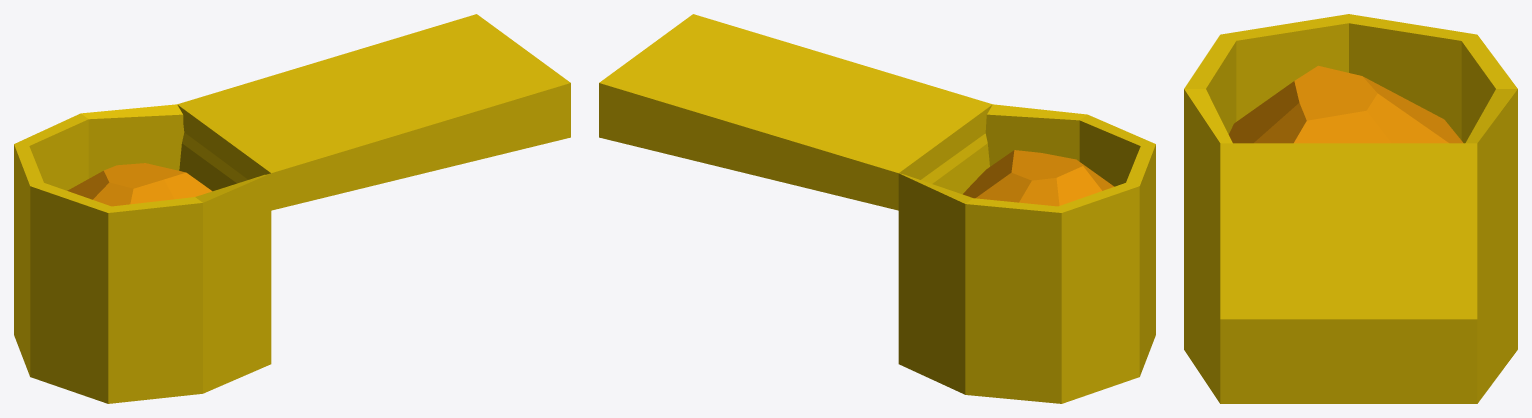
Rendered from PowderScoop.fbx.
3 views of the same model, side by side, from view 1: azimuth 30°, elevation 25°; view 2: azimuth 150°, elevation 25°; view 3: azimuth 270°, elevation 25° (orthographic). The views are drawn at different scales.
Parts seen in each view (by area): view 1: Cube, POWDER; view 2: Cube, POWDER; view 3: Cube, POWDER.
Boxes of the visible parts, x1=… form: Cube: x1=14, y1=14, x2=570, y2=403; POWDER: x1=67, y1=163, x2=212, y2=206; Cube: x1=599, y1=14, x2=1155, y2=403; POWDER: x1=963, y1=150, x2=1114, y2=206; Cube: x1=1184, y1=14, x2=1517, y2=403; POWDER: x1=1228, y1=65, x2=1463, y2=143.
Bounding box in the file's own units: 605 × 244 × 260.
